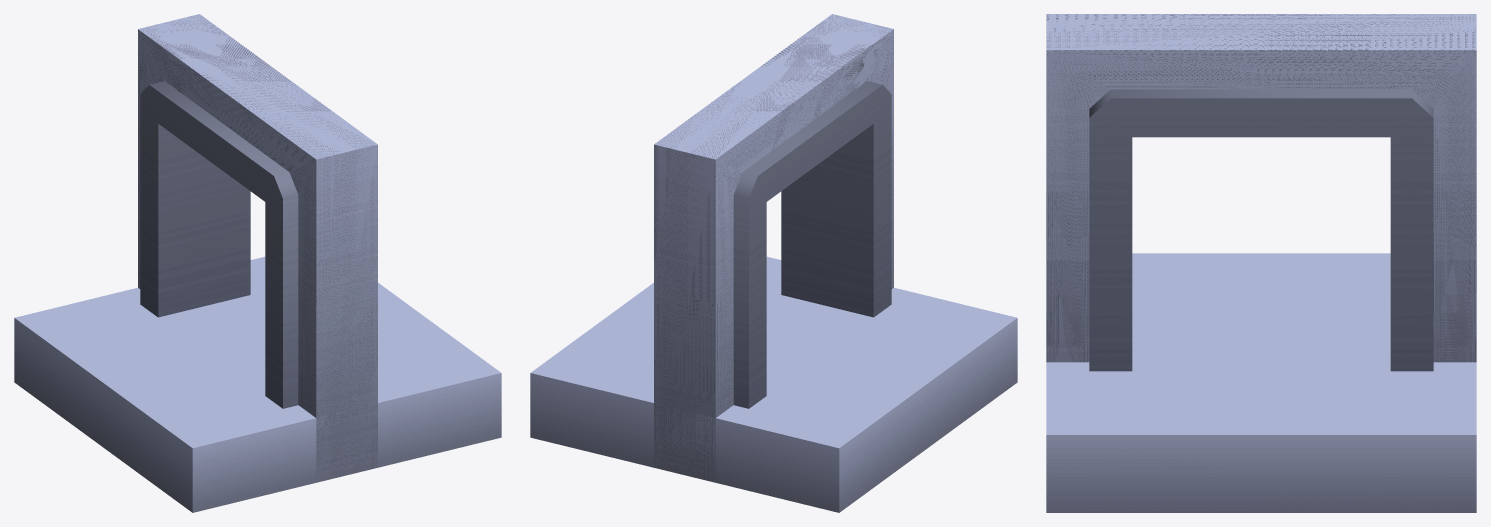
File: doorway.glb
3 renders of one model, left to right at view 1: azimuth 30°, elevation 25°; view 2: azimuth 150°, elevation 25°; view 3: azimuth 270°, elevation 25°, orthographic. The views are drawn at different scales.
Parts seen in each view (by area): view 1: wall-doorway; view 2: wall-doorway; view 3: wall-doorway.
Boxes of the visible parts, x1=… form: wall-doorway: x1=14, y1=14, x2=501, y2=512; wall-doorway: x1=530, y1=14, x2=1017, y2=512; wall-doorway: x1=1046, y1=14, x2=1476, y2=512.
Size of the model in its own units: 1 by 1 by 1.
Materials: 2 (2 with a texture image).
